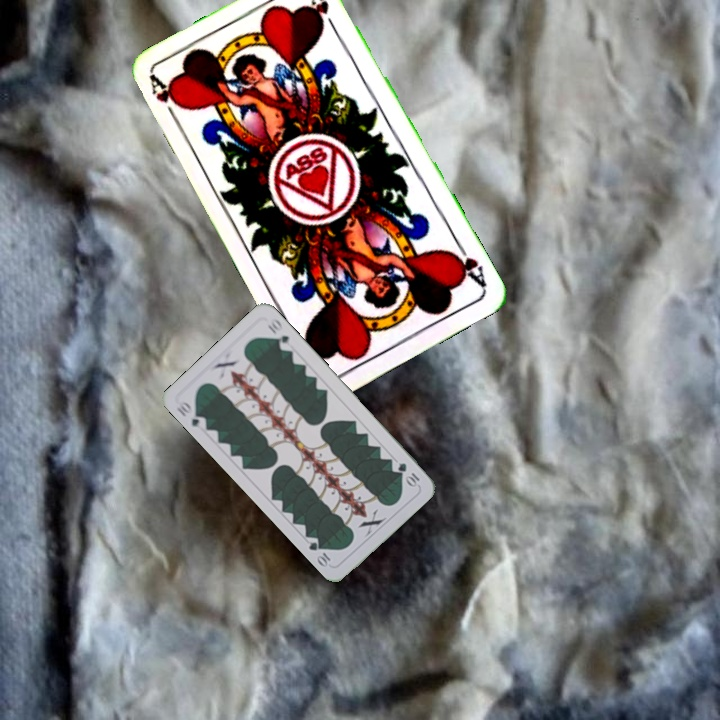G10: (172, 396, 209, 433), (394, 459, 422, 489)
HA: (445, 236, 490, 290), (146, 72, 184, 128)
